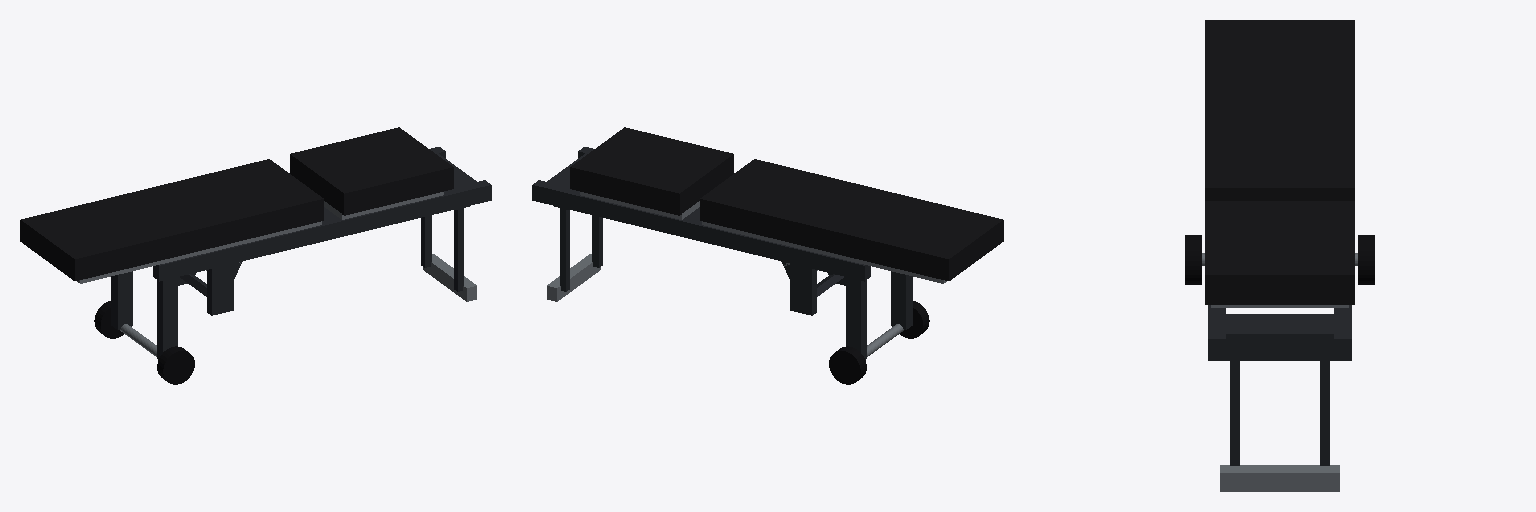
The robot description file, URDF, robot "apartment_gym_bench":
<robot name="apartment_gym_bench">
  <material name="frame_mat">
    <color rgba="0.18 0.19 0.21 1" />
    </material>
  <material name="pad_mat">
    <color rgba="0.12 0.12 0.13 1" />
    </material>
  <material name="wheel_mat">
    <color rgba="0.09 0.09 0.1 1" />
    </material>
  <material name="trim_mat">
    <color rgba="0.44 0.46 0.48 1" />
    </material>
  <link name="frame">
    <visual name="rail_0">
      <origin xyz="-0.02 -0.105 0.315" rpy="0 0 0" />
      <geometry>
        <box size="0.88 0.03 0.04" />
        </geometry>
      <material name="frame_mat">
        <color rgba="0.18 0.19 0.21 1" />
        </material>
      </visual>
    <visual name="rail_1">
      <origin xyz="-0.02 0.105 0.315" rpy="0 0 0" />
      <geometry>
        <box size="0.88 0.03 0.04" />
        </geometry>
      <material name="frame_mat">
        <color rgba="0.18 0.19 0.21 1" />
        </material>
      </visual>
    <visual name="front_cross">
      <origin xyz="0.36 0 0.315" rpy="0 0 0" />
      <geometry>
        <box size="0.08 0.22 0.04" />
        </geometry>
      <material name="frame_mat">
        <color rgba="0.18 0.19 0.21 1" />
        </material>
      </visual>
    <visual name="seat_cross">
      <origin xyz="0.02 0 0.315" rpy="0 0 0" />
      <geometry>
        <box size="0.08 0.22 0.04" />
        </geometry>
      <material name="frame_mat">
        <color rgba="0.18 0.19 0.21 1" />
        </material>
      </visual>
    <visual name="rear_cross">
      <origin xyz="-0.34 0 0.315" rpy="0 0 0" />
      <geometry>
        <box size="0.1 0.22 0.04" />
        </geometry>
      <material name="frame_mat">
        <color rgba="0.18 0.19 0.21 1" />
        </material>
      </visual>
    <visual name="ladder_ear_0">
      <origin xyz="-0.28 -0.09 0.24" rpy="0 0 0" />
      <geometry>
        <box size="0.06 0.02 0.15" />
        </geometry>
      <material name="frame_mat">
        <color rgba="0.18 0.19 0.21 1" />
        </material>
      </visual>
    <visual name="ladder_ear_1">
      <origin xyz="-0.28 0.09 0.24" rpy="0 0 0" />
      <geometry>
        <box size="0.06 0.02 0.15" />
        </geometry>
      <material name="frame_mat">
        <color rgba="0.18 0.19 0.21 1" />
        </material>
      </visual>
    <visual name="wheel_bracket_0">
      <origin xyz="-0.43 -0.105 0.195" rpy="0 0 0" />
      <geometry>
        <box size="0.04 0.03 0.22" />
        </geometry>
      <material name="frame_mat">
        <color rgba="0.18 0.19 0.21 1" />
        </material>
      </visual>
    <visual name="wheel_bracket_1">
      <origin xyz="-0.43 0.105 0.195" rpy="0 0 0" />
      <geometry>
        <box size="0.04 0.03 0.22" />
        </geometry>
      <material name="frame_mat">
        <color rgba="0.18 0.19 0.21 1" />
        </material>
      </visual>
    <visual name="rear_axle">
      <origin xyz="-0.43 0 0.085" rpy="1.5708 0 0" />
      <geometry>
        <cylinder radius="0.011" length="0.26" />
        </geometry>
      <material name="trim_mat">
        <color rgba="0.44 0.46 0.48 1" />
        </material>
      </visual>
    <collision name="rail_0">
      <origin xyz="-0.02 -0.105 0.315" rpy="0 0 0" />
      <geometry>
        <box size="0.88 0.03 0.04" />
        </geometry>
      </collision>
    <collision name="rail_1">
      <origin xyz="-0.02 0.105 0.315" rpy="0 0 0" />
      <geometry>
        <box size="0.88 0.03 0.04" />
        </geometry>
      </collision>
    <collision name="front_cross">
      <origin xyz="0.36 0 0.315" rpy="0 0 0" />
      <geometry>
        <box size="0.08 0.22 0.04" />
        </geometry>
      </collision>
    <collision name="seat_cross">
      <origin xyz="0.02 0 0.315" rpy="0 0 0" />
      <geometry>
        <box size="0.08 0.22 0.04" />
        </geometry>
      </collision>
    <collision name="rear_cross">
      <origin xyz="-0.34 0 0.315" rpy="0 0 0" />
      <geometry>
        <box size="0.1 0.22 0.04" />
        </geometry>
      </collision>
    <collision name="ladder_ear_0">
      <origin xyz="-0.28 -0.09 0.24" rpy="0 0 0" />
      <geometry>
        <box size="0.06 0.02 0.15" />
        </geometry>
      </collision>
    <collision name="ladder_ear_1">
      <origin xyz="-0.28 0.09 0.24" rpy="0 0 0" />
      <geometry>
        <box size="0.06 0.02 0.15" />
        </geometry>
      </collision>
    <collision name="wheel_bracket_0">
      <origin xyz="-0.43 -0.105 0.195" rpy="0 0 0" />
      <geometry>
        <box size="0.04 0.03 0.22" />
        </geometry>
      </collision>
    <collision name="wheel_bracket_1">
      <origin xyz="-0.43 0.105 0.195" rpy="0 0 0" />
      <geometry>
        <box size="0.04 0.03 0.22" />
        </geometry>
      </collision>
    <collision name="rear_axle">
      <origin xyz="-0.43 0 0.085" rpy="1.5708 0 0" />
      <geometry>
        <cylinder radius="0.011" length="0.26" />
        </geometry>
      </collision>
    </link>
  <link name="back_pad">
    <visual name="back_board">
      <origin xyz="-0.332 0 0.008" rpy="0 0 0" />
      <geometry>
        <box size="0.64 0.23 0.016" />
        </geometry>
      <material name="trim_mat">
        <color rgba="0.44 0.46 0.48 1" />
        </material>
      </visual>
    <visual name="back_cushion">
      <origin xyz="-0.342 0 0.043" rpy="0 0 0" />
      <geometry>
        <box size="0.66 0.25 0.056" />
        </geometry>
      <material name="pad_mat">
        <color rgba="0.12 0.12 0.13 1" />
        </material>
      </visual>
    <collision name="back_board">
      <origin xyz="-0.332 0 0.008" rpy="0 0 0" />
      <geometry>
        <box size="0.64 0.23 0.016" />
        </geometry>
      </collision>
    <collision name="back_cushion">
      <origin xyz="-0.342 0 0.043" rpy="0 0 0" />
      <geometry>
        <box size="0.66 0.25 0.056" />
        </geometry>
      </collision>
    </link>
  <link name="seat_pad">
    <visual name="seat_board">
      <origin xyz="0.147 0 0.008" rpy="0 0 0" />
      <geometry>
        <box size="0.27 0.23 0.016" />
        </geometry>
      <material name="trim_mat">
        <color rgba="0.44 0.46 0.48 1" />
        </material>
      </visual>
    <visual name="seat_cushion">
      <origin xyz="0.157 0 0.043" rpy="0 0 0" />
      <geometry>
        <box size="0.29 0.25 0.056" />
        </geometry>
      <material name="pad_mat">
        <color rgba="0.12 0.12 0.13 1" />
        </material>
      </visual>
    <collision name="seat_board">
      <origin xyz="0.147 0 0.008" rpy="0 0 0" />
      <geometry>
        <box size="0.27 0.23 0.016" />
        </geometry>
      </collision>
    <collision name="seat_cushion">
      <origin xyz="0.157 0 0.043" rpy="0 0 0" />
      <geometry>
        <box size="0.29 0.25 0.056" />
        </geometry>
      </collision>
    </link>
  <link name="ladder_support">
    <visual name="ladder_base">
      <origin xyz="0 0 0.009" rpy="0 0 0" />
      <geometry>
        <box size="0.028 0.16 0.018" />
        </geometry>
      <material name="frame_mat">
        <color rgba="0.18 0.19 0.21 1" />
        </material>
      </visual>
    <visual name="ladder_strut_0">
      <origin xyz="0 -0.07 0.0825" rpy="0 0 0" />
      <geometry>
        <box size="0.022 0.02 0.165" />
        </geometry>
      <material name="frame_mat">
        <color rgba="0.18 0.19 0.21 1" />
        </material>
      </visual>
    <visual name="ladder_strut_1">
      <origin xyz="0 0.07 0.0825" rpy="0 0 0" />
      <geometry>
        <box size="0.022 0.02 0.165" />
        </geometry>
      <material name="frame_mat">
        <color rgba="0.18 0.19 0.21 1" />
        </material>
      </visual>
    <visual name="ladder_rung_0">
      <origin xyz="0 0 0.055" rpy="0 0 0" />
      <geometry>
        <box size="0.018 0.16 0.014" />
        </geometry>
      <material name="trim_mat">
        <color rgba="0.44 0.46 0.48 1" />
        </material>
      </visual>
    <visual name="ladder_rung_1">
      <origin xyz="0 0 0.105" rpy="0 0 0" />
      <geometry>
        <box size="0.018 0.16 0.014" />
        </geometry>
      <material name="trim_mat">
        <color rgba="0.44 0.46 0.48 1" />
        </material>
      </visual>
    <visual name="ladder_top">
      <origin xyz="0 0 0.155" rpy="0 0 0" />
      <geometry>
        <box size="0.03 0.16 0.018" />
        </geometry>
      <material name="trim_mat">
        <color rgba="0.44 0.46 0.48 1" />
        </material>
      </visual>
    <collision name="ladder_base">
      <origin xyz="0 0 0.009" rpy="0 0 0" />
      <geometry>
        <box size="0.028 0.16 0.018" />
        </geometry>
      </collision>
    <collision name="ladder_strut_0">
      <origin xyz="0 -0.07 0.0825" rpy="0 0 0" />
      <geometry>
        <box size="0.022 0.02 0.165" />
        </geometry>
      </collision>
    <collision name="ladder_strut_1">
      <origin xyz="0 0.07 0.0825" rpy="0 0 0" />
      <geometry>
        <box size="0.022 0.02 0.165" />
        </geometry>
      </collision>
    <collision name="ladder_rung_0">
      <origin xyz="0 0 0.055" rpy="0 0 0" />
      <geometry>
        <box size="0.018 0.16 0.014" />
        </geometry>
      </collision>
    <collision name="ladder_rung_1">
      <origin xyz="0 0 0.105" rpy="0 0 0" />
      <geometry>
        <box size="0.018 0.16 0.014" />
        </geometry>
      </collision>
    <collision name="ladder_top">
      <origin xyz="0 0 0.155" rpy="0 0 0" />
      <geometry>
        <box size="0.03 0.16 0.018" />
        </geometry>
      </collision>
    </link>
  <link name="front_foot">
    <visual name="top_block">
      <origin xyz="0 0 -0.009" rpy="0 0 0" />
      <geometry>
        <box size="0.04 0.18 0.018" />
        </geometry>
      <material name="frame_mat">
        <color rgba="0.18 0.19 0.21 1" />
        </material>
      </visual>
    <visual name="foot_leg_0">
      <origin xyz="0 -0.075 -0.12" rpy="0 0 0" />
      <geometry>
        <box size="0.018 0.018 0.22" />
        </geometry>
      <material name="frame_mat">
        <color rgba="0.18 0.19 0.21 1" />
        </material>
      </visual>
    <visual name="foot_leg_1">
      <origin xyz="0 0.075 -0.12" rpy="0 0 0" />
      <geometry>
        <box size="0.018 0.018 0.22" />
        </geometry>
      <material name="frame_mat">
        <color rgba="0.18 0.19 0.21 1" />
        </material>
      </visual>
    <visual name="foot_bar">
      <origin xyz="0.02 0 -0.235" rpy="0 0 0" />
      <geometry>
        <box size="0.028 0.2 0.035" />
        </geometry>
      <material name="trim_mat">
        <color rgba="0.44 0.46 0.48 1" />
        </material>
      </visual>
    <collision name="top_block">
      <origin xyz="0 0 -0.009" rpy="0 0 0" />
      <geometry>
        <box size="0.04 0.18 0.018" />
        </geometry>
      </collision>
    <collision name="foot_leg_0">
      <origin xyz="0 -0.075 -0.12" rpy="0 0 0" />
      <geometry>
        <box size="0.018 0.018 0.22" />
        </geometry>
      </collision>
    <collision name="foot_leg_1">
      <origin xyz="0 0.075 -0.12" rpy="0 0 0" />
      <geometry>
        <box size="0.018 0.018 0.22" />
        </geometry>
      </collision>
    <collision name="foot_bar">
      <origin xyz="0.02 0 -0.235" rpy="0 0 0" />
      <geometry>
        <box size="0.028 0.2 0.035" />
        </geometry>
      </collision>
    </link>
  <link name="wheel_0">
    <visual name="wheel">
      <origin xyz="0 0 0" rpy="1.5708 0 0" />
      <geometry>
        <cylinder radius="0.042" length="0.028" />
        </geometry>
      <material name="wheel_mat">
        <color rgba="0.09 0.09 0.1 1" />
        </material>
      </visual>
    <collision name="wheel">
      <origin xyz="0 0 0" rpy="1.5708 0 0" />
      <geometry>
        <cylinder radius="0.042" length="0.028" />
        </geometry>
      </collision>
    </link>
  <link name="wheel_1">
    <visual name="wheel">
      <origin xyz="0 0 0" rpy="1.5708 0 0" />
      <geometry>
        <cylinder radius="0.042" length="0.028" />
        </geometry>
      <material name="wheel_mat">
        <color rgba="0.09 0.09 0.1 1" />
        </material>
      </visual>
    <collision name="wheel">
      <origin xyz="0 0 0" rpy="1.5708 0 0" />
      <geometry>
        <cylinder radius="0.042" length="0.028" />
        </geometry>
      </collision>
    </link>
  <joint name="back_hinge" type="revolute">
    <origin xyz="-0.015 0 0.335" rpy="0 0 0" />
    <parent link="frame" />
    <child link="back_pad" />
    <axis xyz="0 1 0" />
    <limit effort="60" velocity="1.8" lower="0" upper="1.15" />
    </joint>
  <joint name="seat_hinge" type="revolute">
    <origin xyz="0.015 0 0.335" rpy="0 0 0" />
    <parent link="frame" />
    <child link="seat_pad" />
    <axis xyz="0 -1 0" />
    <limit effort="40" velocity="1.5" lower="0" upper="0.38" />
    </joint>
  <joint name="rear_support_hinge" type="revolute">
    <origin xyz="-0.28 0 0.18" rpy="0 0.5 0" />
    <parent link="frame" />
    <child link="ladder_support" />
    <axis xyz="0 1 0" />
    <limit effort="50" velocity="1.5" lower="-0.45" upper="0.35" />
    </joint>
  <joint name="front_foot_hinge" type="revolute">
    <origin xyz="0.36 0 0.295" rpy="0 0 0" />
    <parent link="frame" />
    <child link="front_foot" />
    <axis xyz="0 1 0" />
    <limit effort="30" velocity="1.8" lower="0" upper="1.1" />
    </joint>
  <joint name="wheel_0_spin" type="continuous">
    <origin xyz="-0.43 -0.144 0.085" rpy="0 0 0" />
    <parent link="frame" />
    <child link="wheel_0" />
    <axis xyz="0 1 0" />
    <limit effort="10" velocity="12" />
    </joint>
  <joint name="wheel_1_spin" type="continuous">
    <origin xyz="-0.43 0.144 0.085" rpy="0 0 0" />
    <parent link="frame" />
    <child link="wheel_1" />
    <axis xyz="0 1 0" />
    <limit effort="10" velocity="12" />
    </joint>
  </robot>

--- What the picture shows (computed from the rendered views, not written in the file) ---
3 views of the same robot in one strip: view 1: azimuth 30°, elevation 25°; view 2: azimuth 150°, elevation 25°; view 3: azimuth 270°, elevation 25° (orthographic).
Robot: apartment_gym_bench — 7 links, 6 joints (4 revolute, 2 continuous); root link frame; default pose: every joint at zero.
Links seen in each view (by area): view 1: back_pad, frame, seat_pad, front_foot, wheel_0, wheel_1; view 2: back_pad, frame, seat_pad, front_foot, wheel_1, wheel_0; view 3: back_pad, seat_pad, frame, front_foot, wheel_0, wheel_1.
Link boxes in pixels (box(x1,y1,x2,y2)): back_pad: box(20, 159, 323, 283); frame: box(111, 147, 491, 359); seat_pad: box(290, 127, 453, 219); front_foot: box(421, 206, 476, 301); wheel_0: box(157, 346, 194, 384); wheel_1: box(94, 301, 123, 338); back_pad: box(700, 159, 1003, 283); frame: box(532, 147, 912, 359); seat_pad: box(570, 127, 733, 219); front_foot: box(547, 206, 602, 301); wheel_1: box(829, 346, 866, 384); wheel_0: box(900, 301, 929, 338); back_pad: box(1205, 20, 1354, 200); seat_pad: box(1205, 201, 1354, 307); frame: box(1202, 253, 1357, 360); front_foot: box(1220, 356, 1339, 491); wheel_0: box(1185, 235, 1201, 284); wheel_1: box(1358, 235, 1374, 284).
Size in the robot's own frame: 1.11 by 0.316 by 0.3635 metres.
Geometry: primitives only (box / cylinder / sphere), no mesh files.
